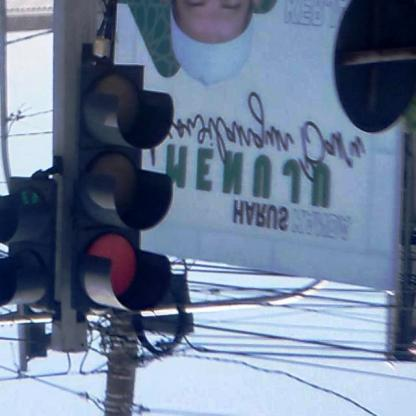Traffic Light -Red-: (70, 64, 174, 313)
